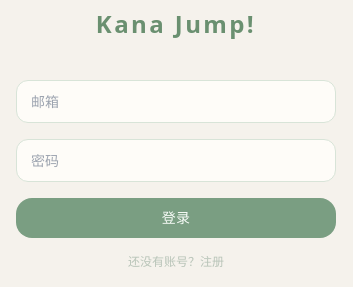
AuthGate › switches to sign-up mode
Click the button "还没有账号？注册" at (176, 262), box [16, 254, 336, 270]
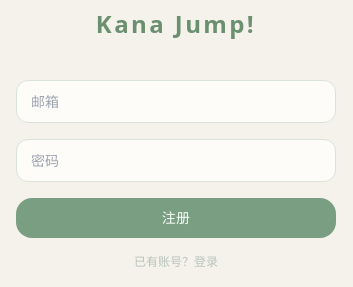
expect the button "注册" is shown: met, box [16, 198, 336, 238]
expect the button "已有账号？登录" is shown: met, box [16, 254, 336, 270]
